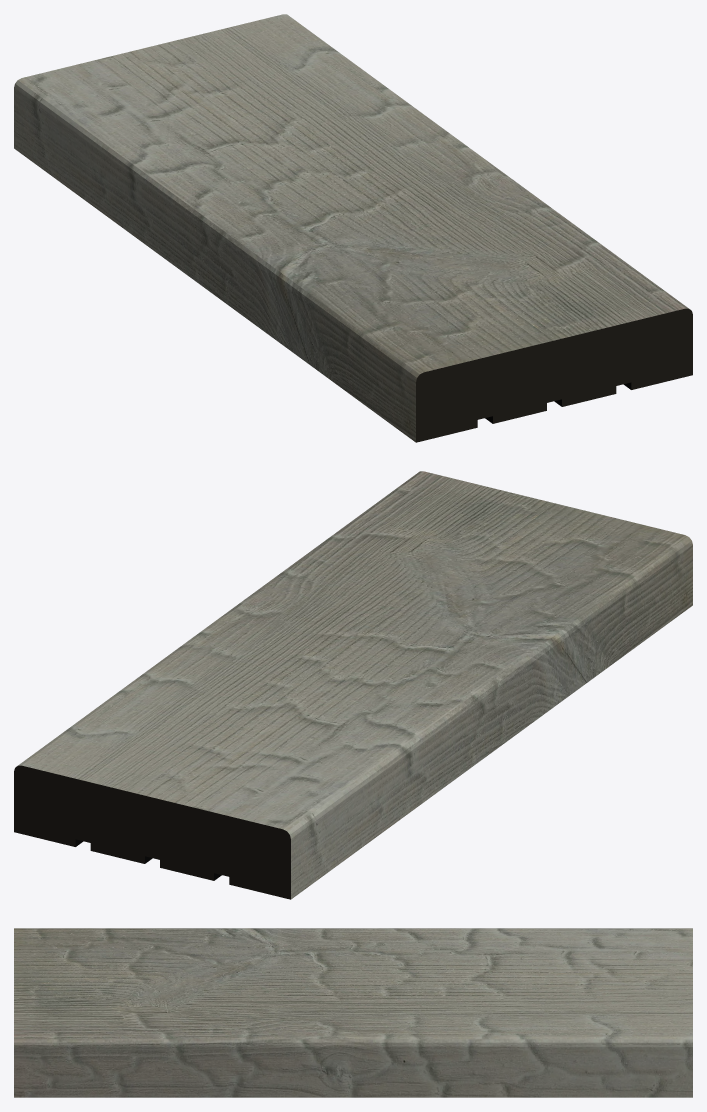
Rendered from thermo-terrace-silver.glb.
3 views of the same model, one above another, from view 1: azimuth 30°, elevation 25°; view 2: azimuth 150°, elevation 25°; view 3: azimuth 270°, elevation 25° (orthographic). The views are drawn at different scales.
Parts seen in each view (by area): view 1: Staciakampis; view 2: Staciakampis; view 3: Staciakampis.
Part boxes in pixels (<box>): Staciakampis: <box>14,14,692,442</box>; Staciakampis: <box>14,471,692,899</box>; Staciakampis: <box>14,928,692,1097</box>.
Bounding box in the file's own units: 0.0733 × 0.0173 × 0.1843.
Materials: 3 (1 with a texture image).
